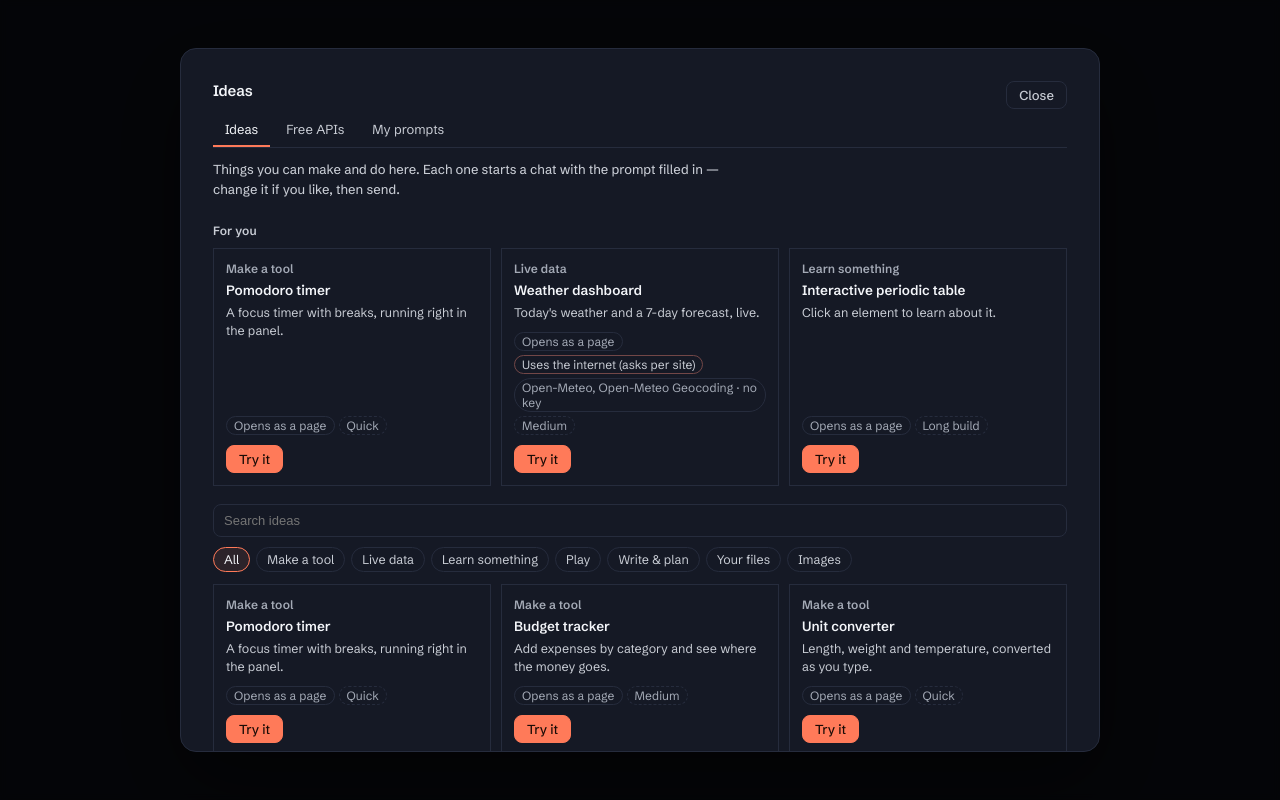
Test case: IdeasSheet › shows saved prompts under My prompts
Click the tab "My prompts" at (408, 130), box 360,113 -> 456,147
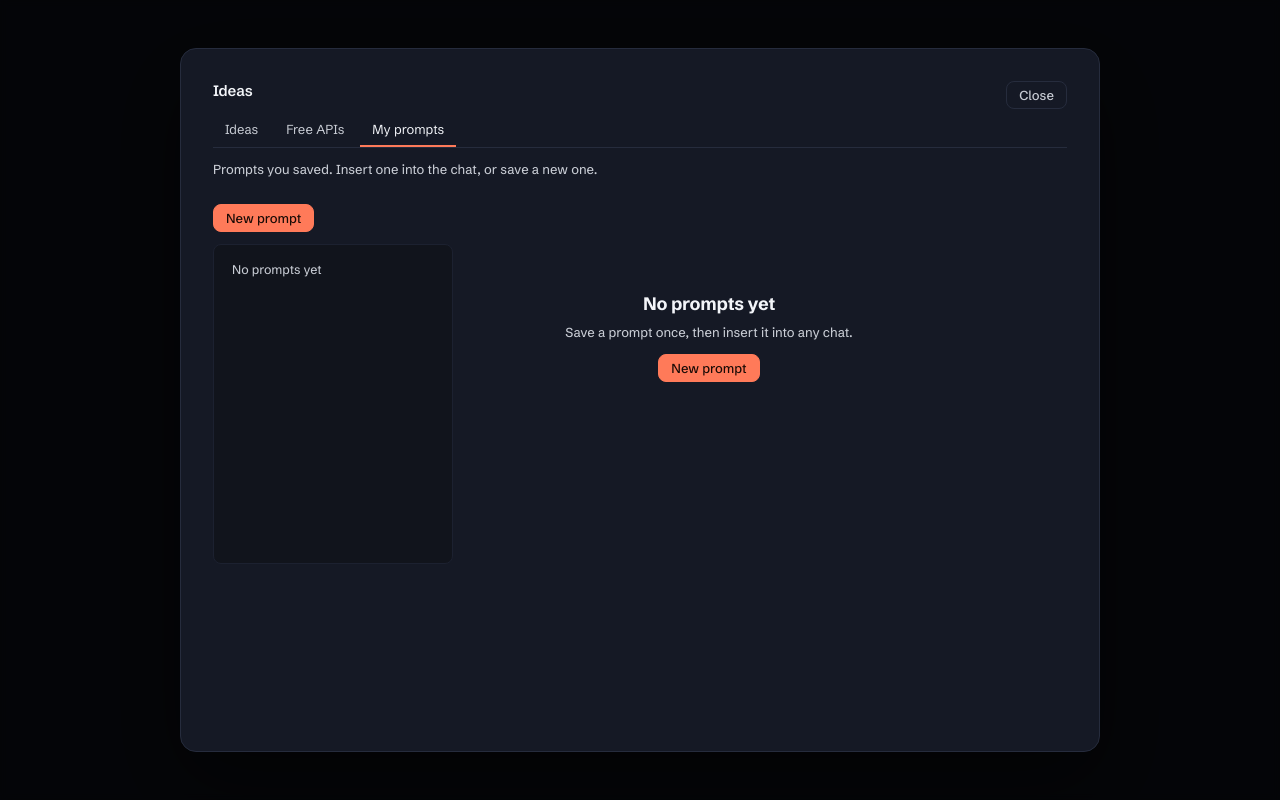
Expected: the text "Prompts you saved. Insert one into the chat, or save a new one." is shown, 213,161 -> 598,177
